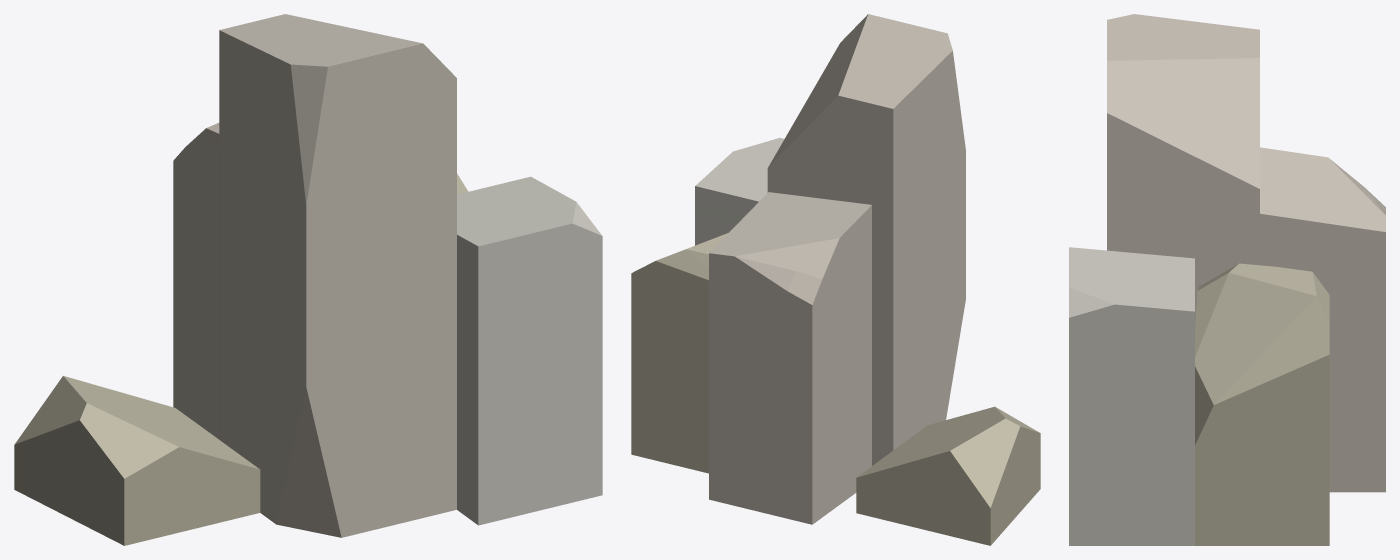
Rendered from Rocks_Square_l_03.fbx.
3 renders of one model, left to right at view 1: azimuth 30°, elevation 25°; view 2: azimuth 150°, elevation 25°; view 3: azimuth 270°, elevation 25°, orthographic. The views are drawn at different scales.
Visible parts, largest first — view 1: Rocks_Square_l_03; view 2: Rocks_Square_l_03; view 3: Rocks_Square_l_03.
Part boxes in pixels (bbox=[...]): Rocks_Square_l_03: bbox=[14, 14, 602, 545]; Rocks_Square_l_03: bbox=[631, 14, 1040, 545]; Rocks_Square_l_03: bbox=[1069, 14, 1385, 545].
Bounding box in the file's own units: 250 × 260 × 179.
